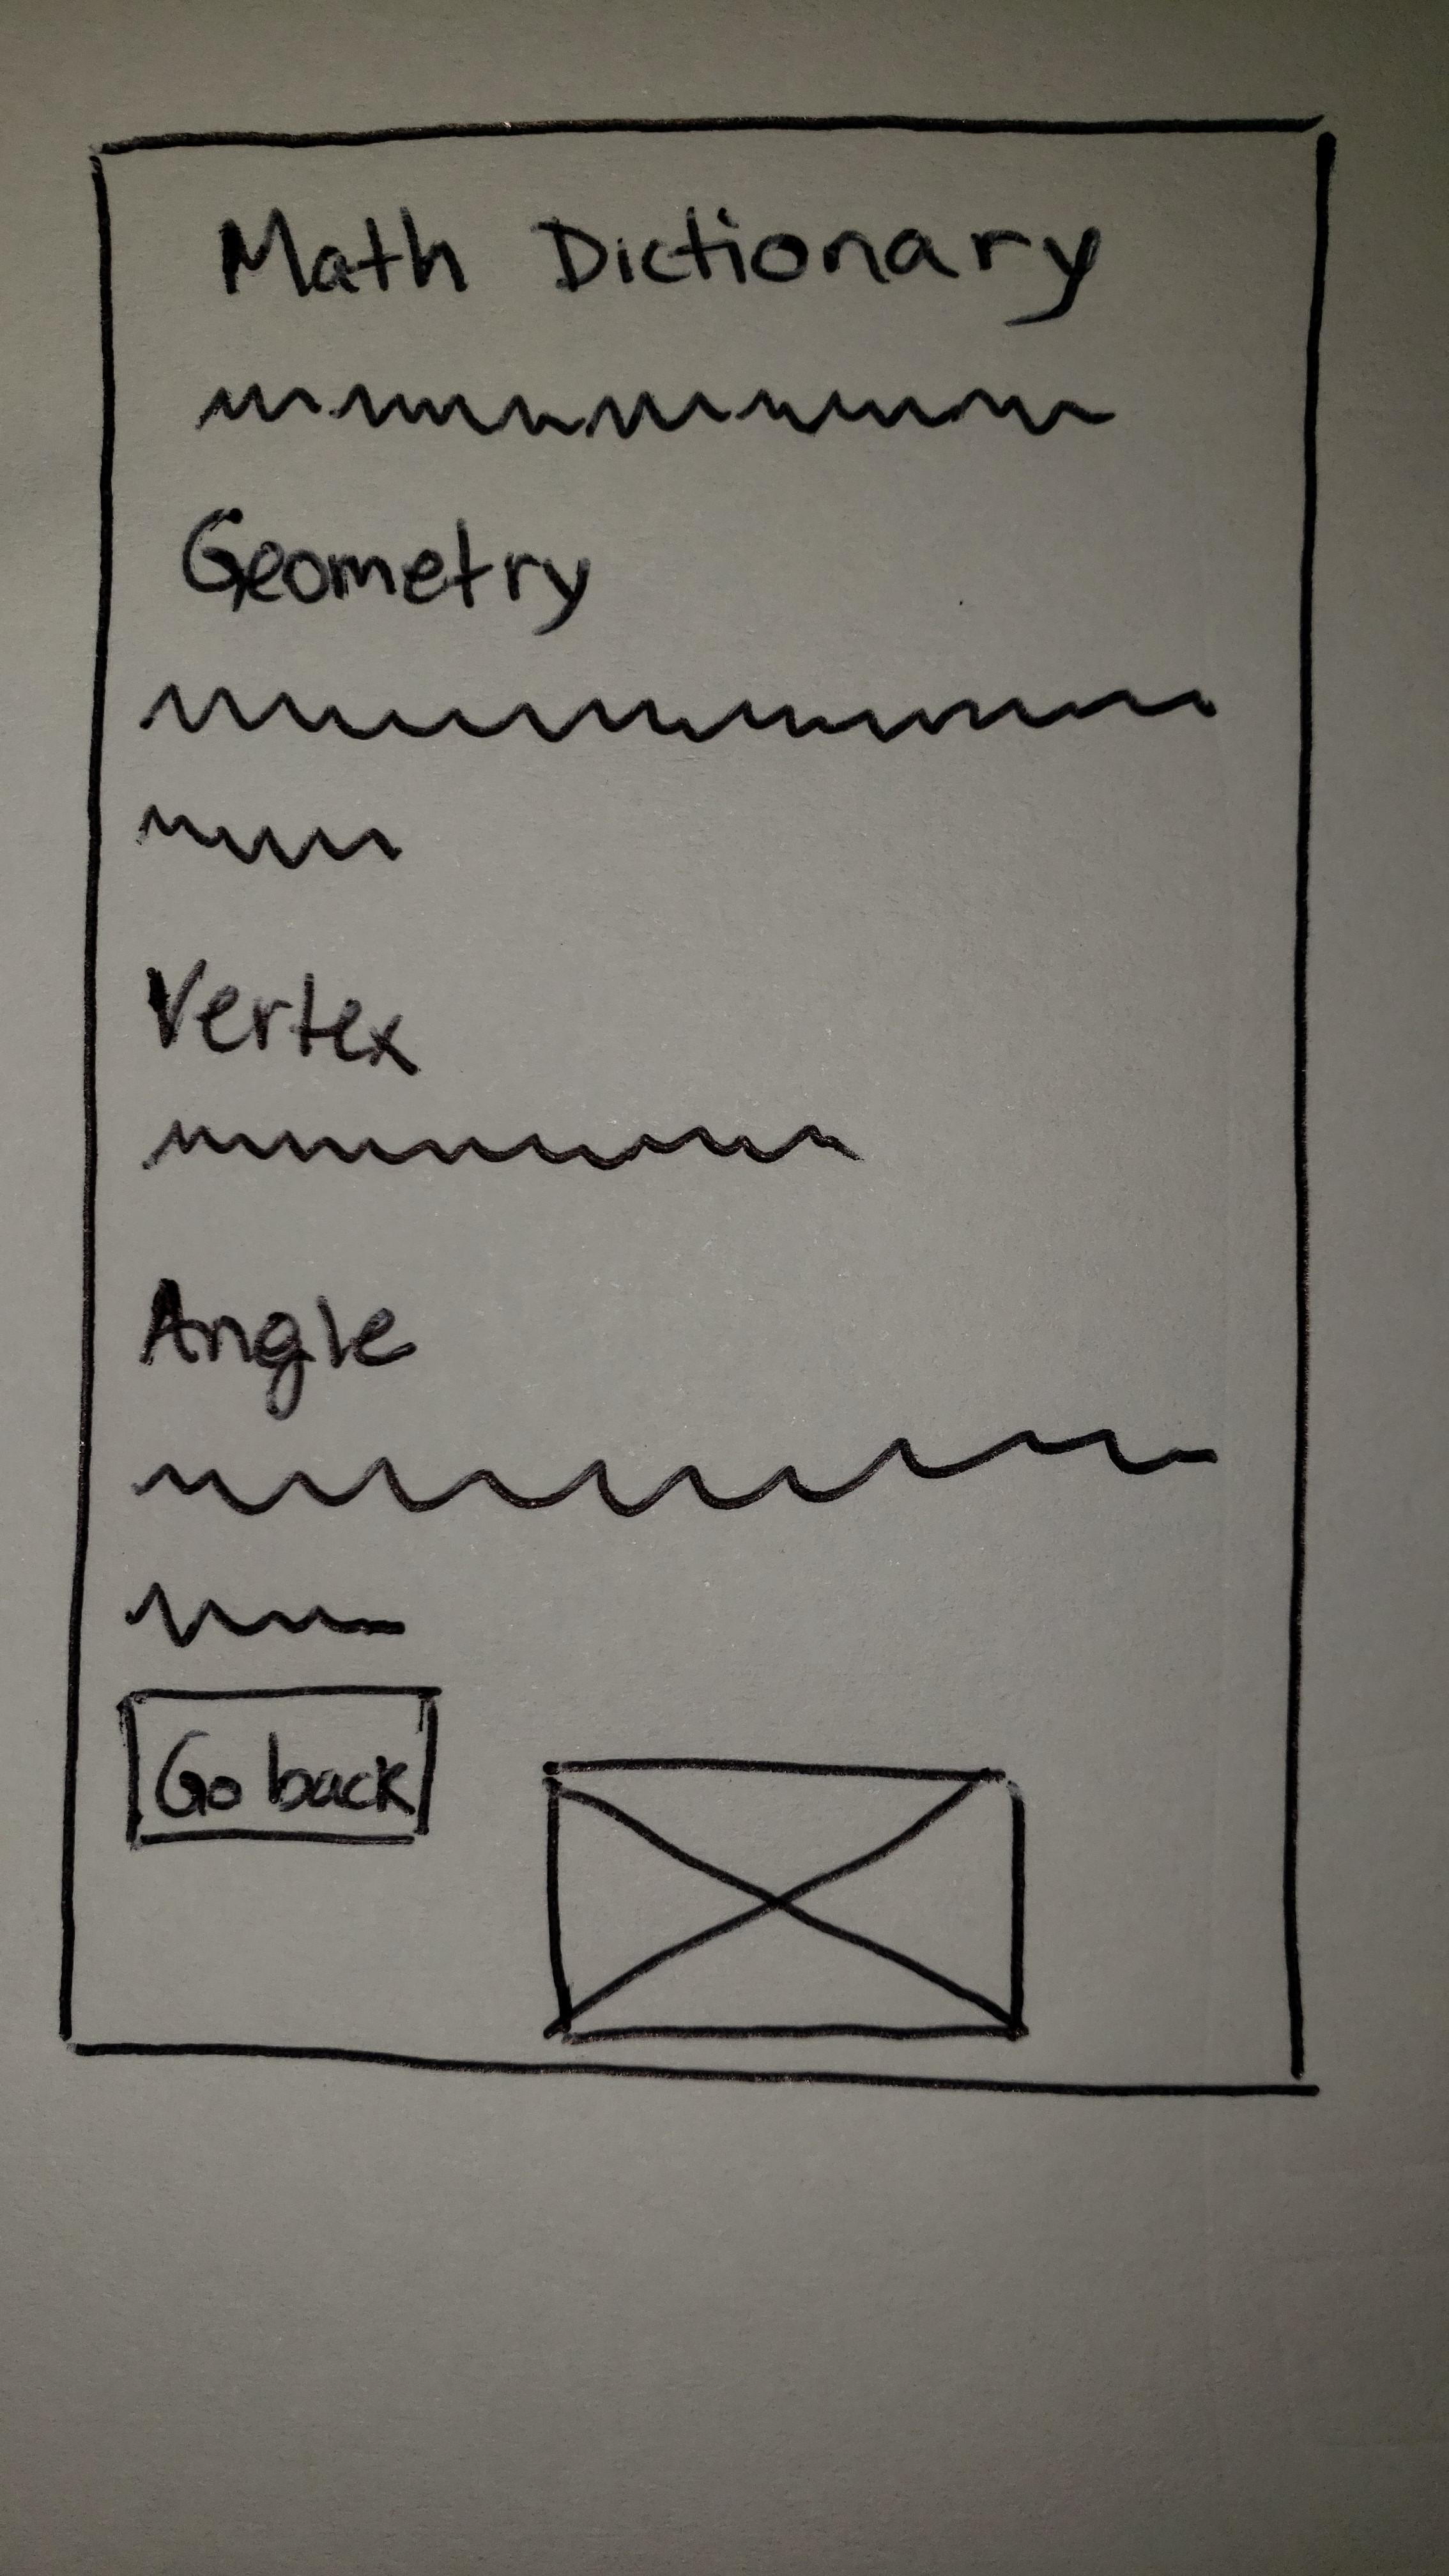Button: (119, 1683, 441, 1847)
Image: (541, 1755, 1026, 2047)
Label: (120, 1428, 1221, 1651), (140, 678, 1217, 870), (212, 202, 1106, 326), (175, 501, 596, 640), (189, 386, 1120, 439), (142, 1115, 863, 1180), (134, 1277, 421, 1419), (142, 954, 414, 1077)
Screen: (58, 117, 1341, 2097)
